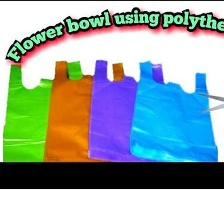plastic_bag: (126, 54, 222, 163), (85, 49, 171, 166), (0, 56, 90, 164), (40, 59, 129, 165)
